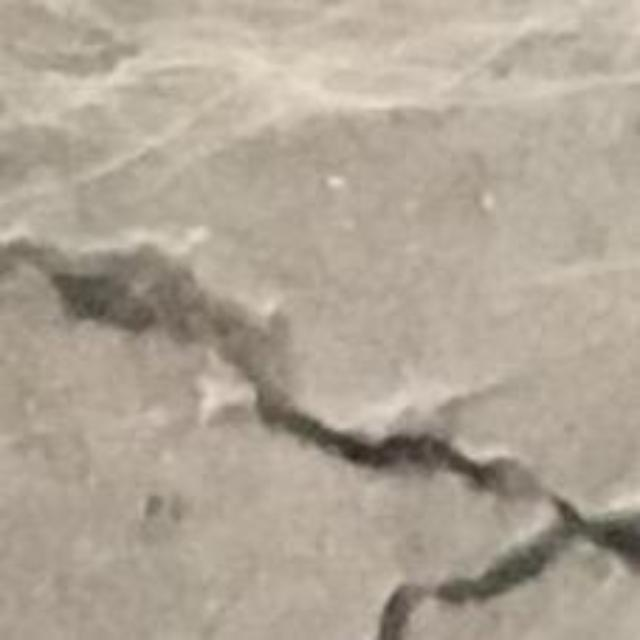crack: (0, 240, 639, 639)
